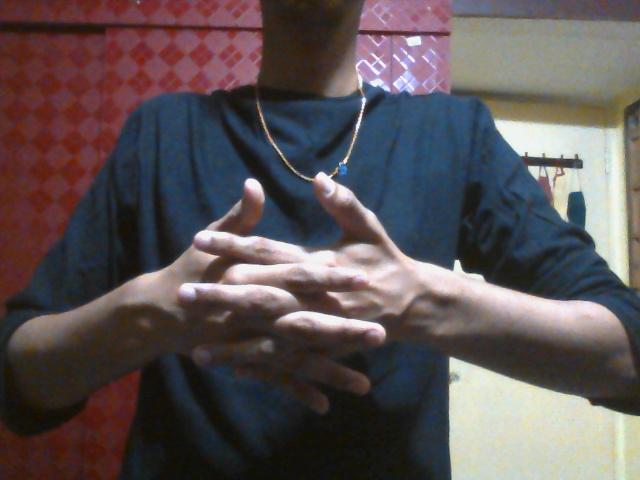W: (153, 171, 425, 415)
